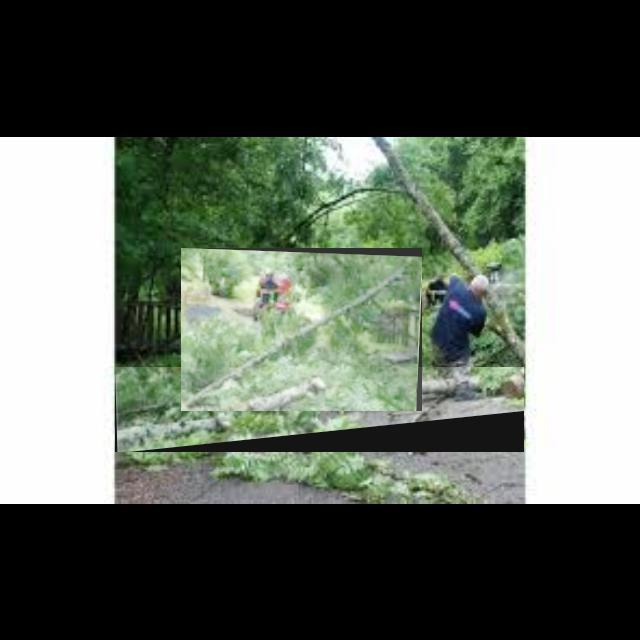fallen_tree: (181, 248, 423, 412), (115, 367, 525, 453)
